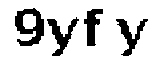9: (11, 7, 47, 50)
f: (81, 4, 109, 51)
y: (113, 10, 150, 60), (47, 17, 79, 60)
